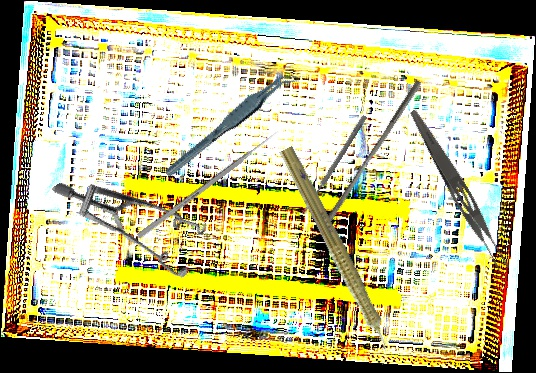Dressing Forceps: (402, 106, 514, 276)
Handpiece: (270, 143, 404, 368)
Pusher: (136, 128, 281, 240), (325, 76, 422, 225)
Speculum: (51, 128, 224, 312)
Surgical Spoon: (300, 114, 368, 216)
Tissue Forceps: (154, 68, 307, 179)
